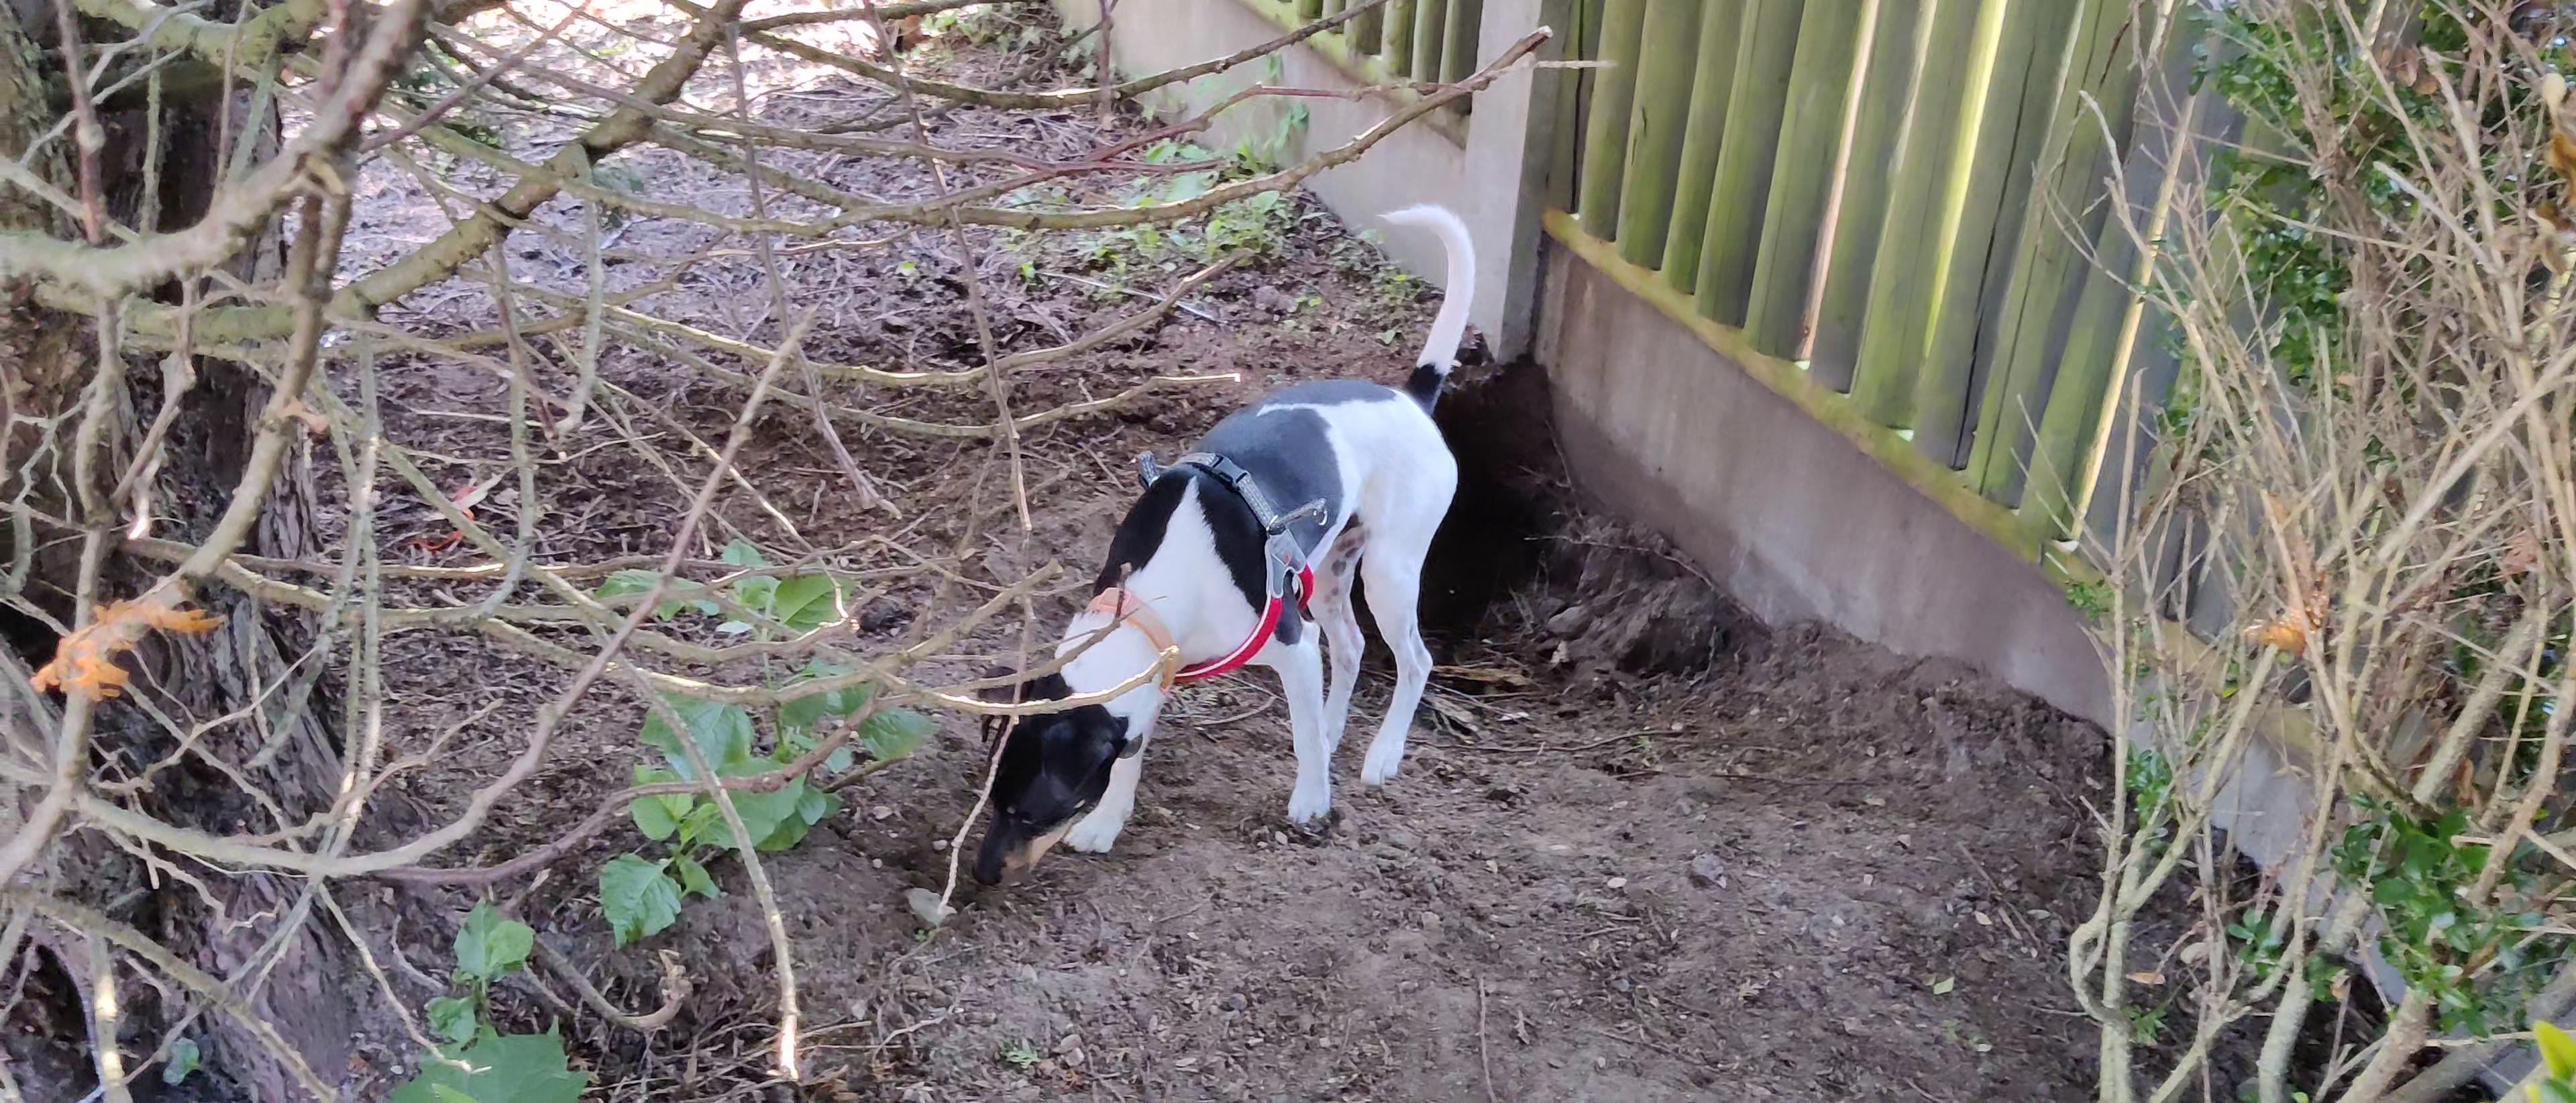Dog: (941, 189, 1500, 919)
